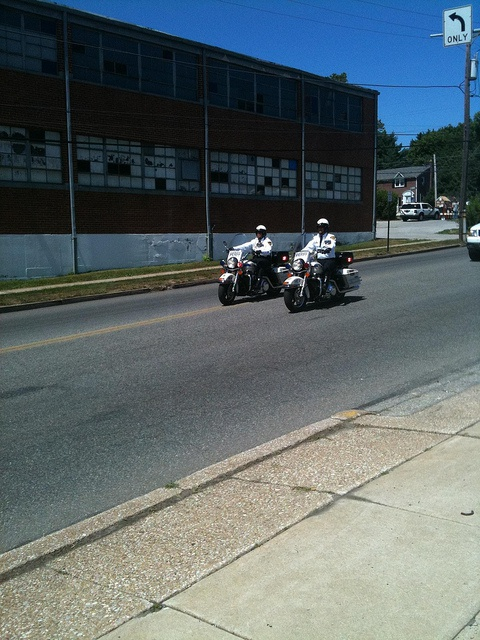non-vehicle: (281, 231, 362, 312), (216, 232, 292, 304)
